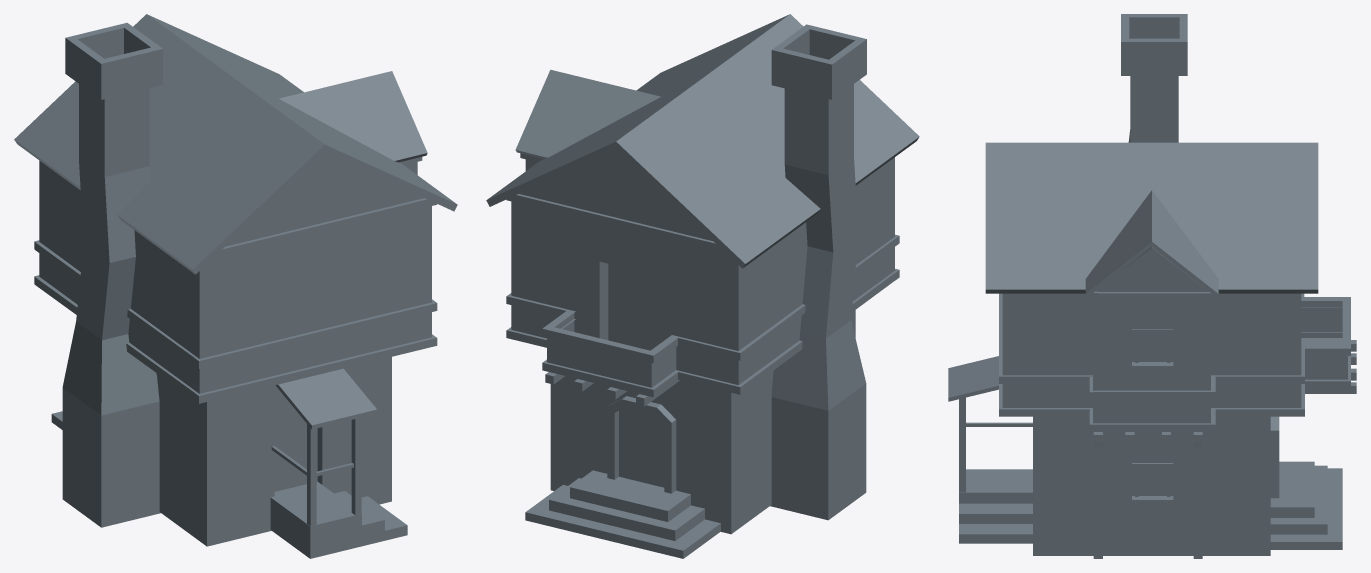
The model's file is marshHouse1.fbx.
3 renders of one model, left to right at view 1: azimuth 30°, elevation 25°; view 2: azimuth 150°, elevation 25°; view 3: azimuth 270°, elevation 25°, orthographic. The views are drawn at different scales.
Parts seen in each view (by area): view 1: Cube; view 2: Cube; view 3: Cube.
Boxes of the visible parts, bbox=[...] form: Cube: bbox=[14, 14, 457, 558]; Cube: bbox=[486, 14, 919, 558]; Cube: bbox=[948, 14, 1356, 558].
Bounding box in the file's own units: 455 × 650 × 556.
